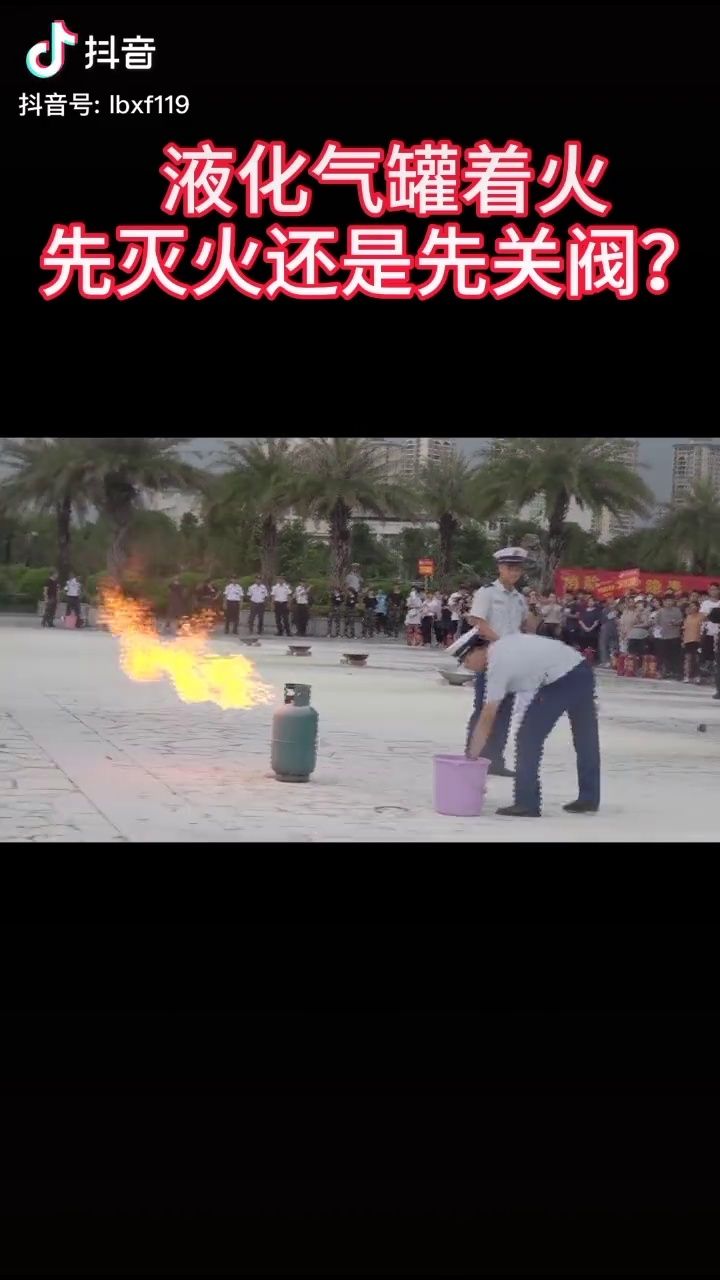fire: (96, 589, 268, 710)
